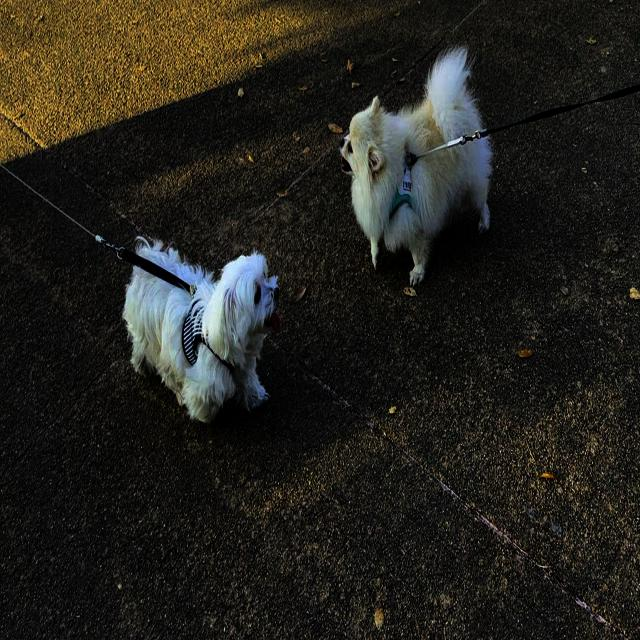Dog: (340, 46, 493, 287), (121, 237, 282, 423)
